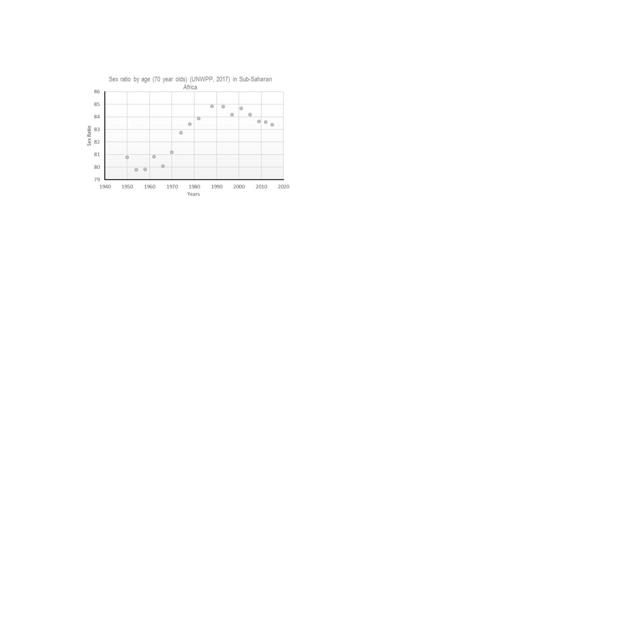Graph: (79, 71, 292, 198)
